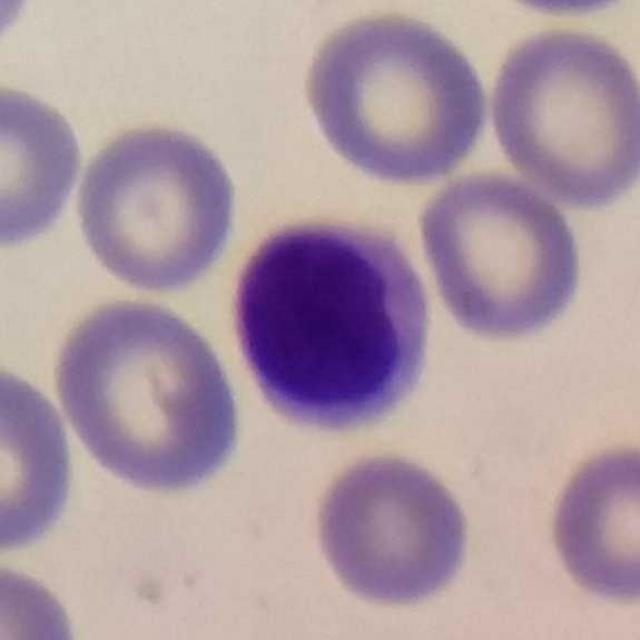Lymphocyte: (220, 205, 443, 443)
RBC: (48, 292, 247, 499), (295, 6, 494, 189), (413, 166, 589, 346), (70, 118, 244, 294), (484, 22, 640, 212), (307, 445, 478, 611), (542, 438, 640, 608), (0, 358, 80, 556), (0, 78, 87, 253), (0, 553, 87, 640)
